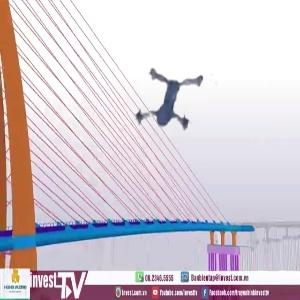drone: (123, 57, 217, 151)
